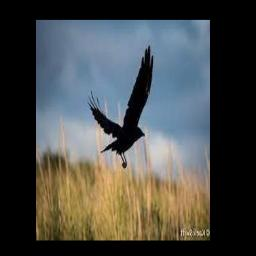Crow: (88, 45, 154, 170)
